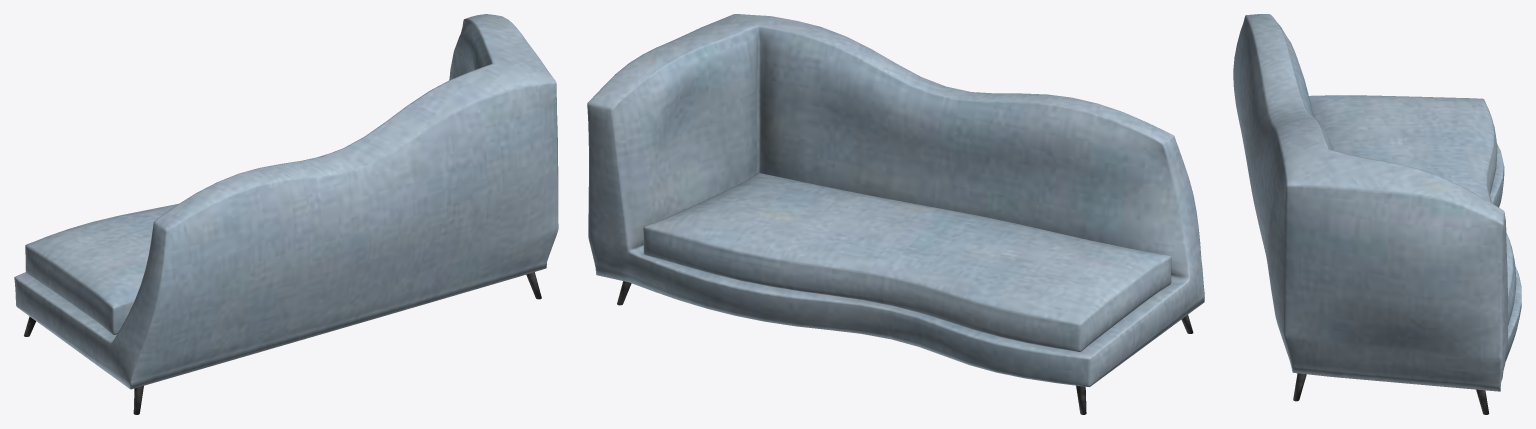
File: Sofa22.glb
3 views of the same model, side by side, from view 1: azimuth 30°, elevation 25°; view 2: azimuth 150°, elevation 25°; view 3: azimuth 270°, elevation 25° (orthographic). The views are drawn at different scales.
Parts seen in each view (by area): view 1: Sofa22_model; view 2: Sofa22_model; view 3: Sofa22_model.
Part boxes in pixels (<box>): Sofa22_model: <box>14,14,558,414</box>; Sofa22_model: <box>587,14,1204,414</box>; Sofa22_model: <box>1233,14,1521,414</box>.
Bounding box in the file's own units: 4.04 × 1.81 × 2.01.
1 material, 1 textured.
